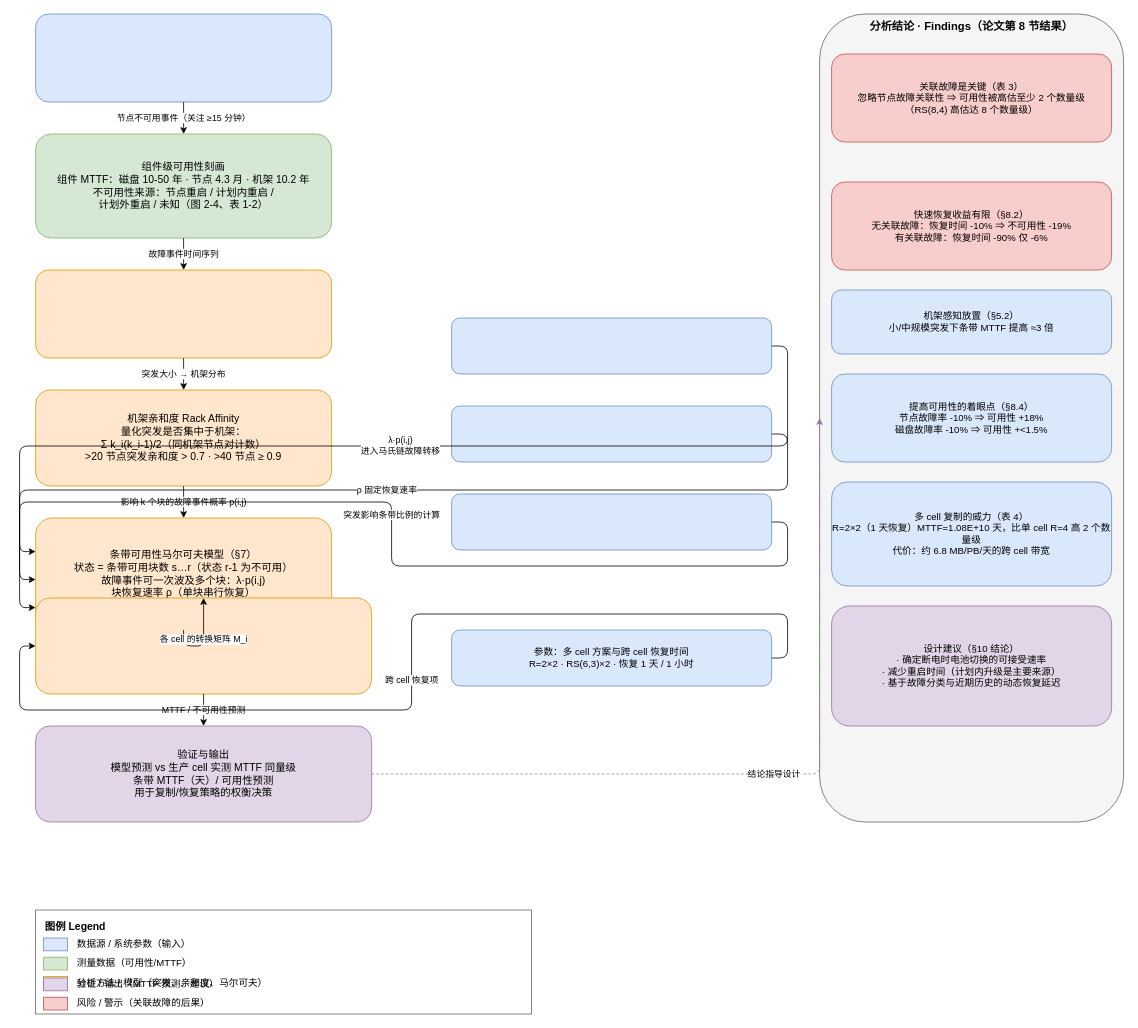
Image size: 1138x1028. Some labels were removed from this diagram. The shapes that lost their labels are listed below. From the top down, each one's centre as x and y in pixels, then its label:
At point (183, 57): "数据源 Google 生产集群一年观测 （数十个 cell × 每 cell 1000-7000 节点） 含计划内维护/升级/重启等全部不可用事件".
At point (183, 313): "故障突发定义 Failure Burst 时间窗口 w=120s 的相邻故障聚类 结论：37% 的故障属于 ≥2 节点的突发".
At point (611, 345): "参数：复制 / 纠删码方案 R=n 复制 · RS(n,m) 纠删码".
At point (611, 433): "参数：恢复率 ρ（§8.2） 恢复带宽限制 · 恢复队列优先级".
At point (611, 521): "参数：块放置策略（§5.2） 均匀随机 vs 机架感知（避免同机架双块）".
At point (203, 645): "多 cell 复制扩展（§7.2） 每个 cell 视为多 cell 条带中的一个“块” 转换矩阵张量积 + 跨 cell 恢复项 跨数据中心故障独立假设".
